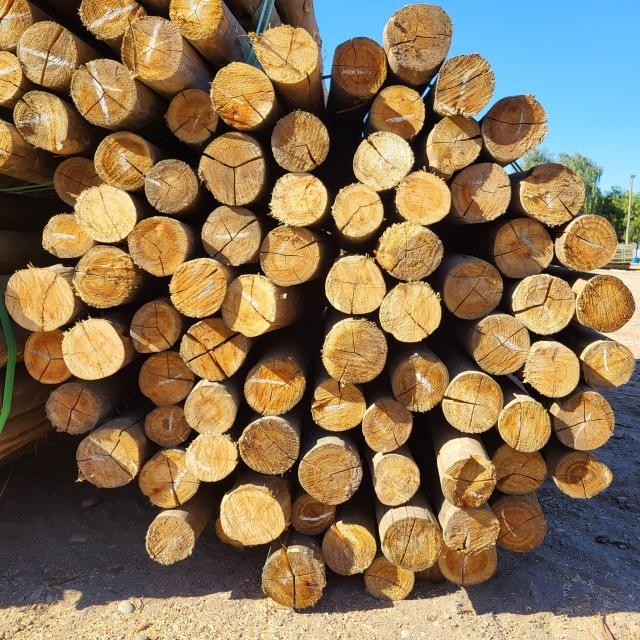package: (10, 4, 631, 608), (2, 1, 300, 183)
